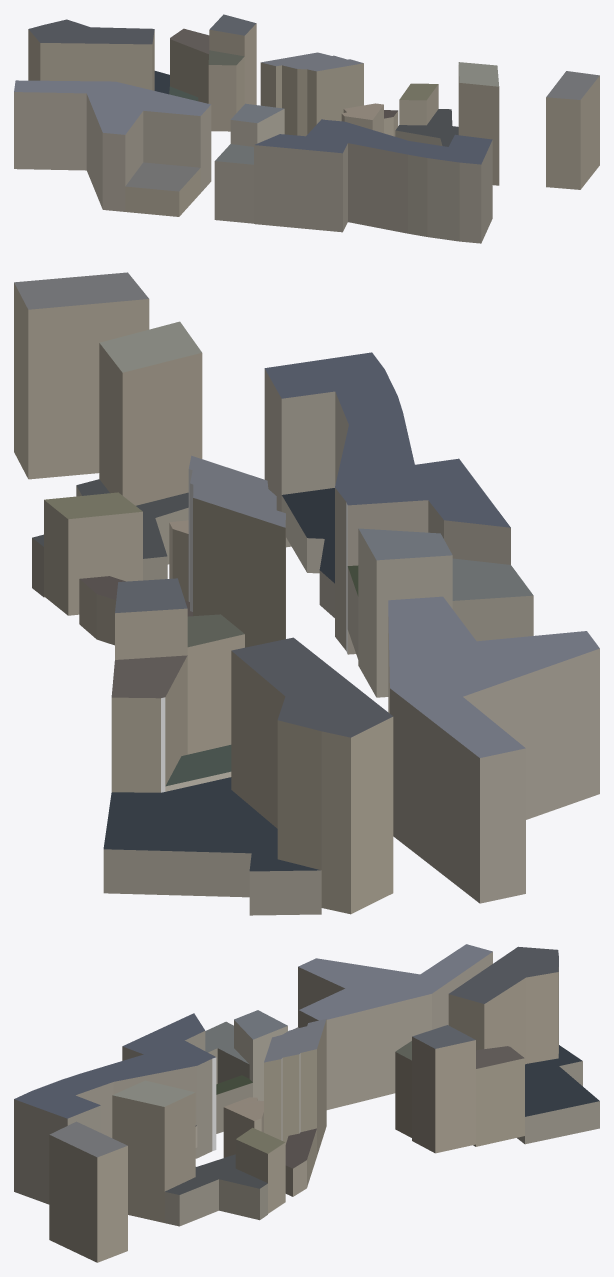
3 renders of one model, top to bottom at view 1: azimuth 30°, elevation 25°; view 2: azimuth 150°, elevation 25°; view 3: azimuth 270°, elevation 25°, orthographic. The views are drawn at different scales.
Visible parts, largest first — view 1: tuile; view 2: tuile; view 3: tuile.
Part boxes in pixels (<box>): tuile: <box>14,14,599,243</box>; tuile: <box>14,272,599,915</box>; tuile: <box>14,944,599,1262</box>.
Bounding box in the file's own units: 247 × 61.43 × 250.
